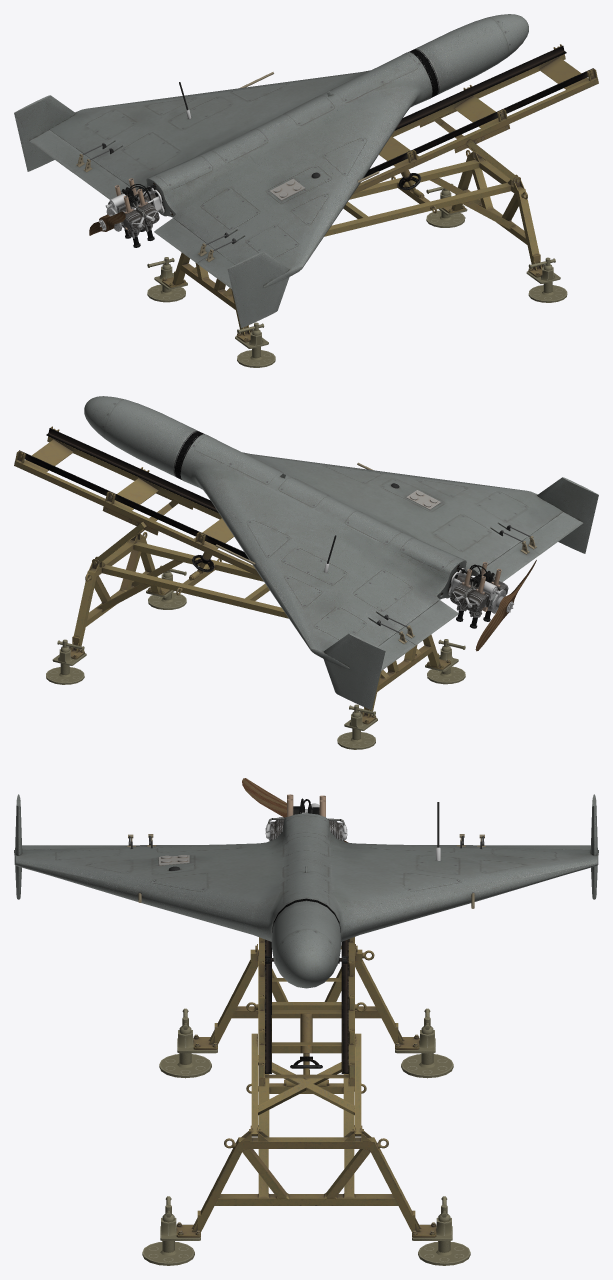
The model's file is shahed_13.glb.
The picture shows the model from 3 angles, top to bottom: view 1: azimuth 30°, elevation 25°; view 2: azimuth 150°, elevation 25°; view 3: azimuth 270°, elevation 25°; orthographic projection. The views are drawn at different scales.
Parts seen in each view (by area): view 1: aerofoil, launch rail, carriage.001, aileron top, carriage middle, carriage.004, carriage.008, launch rail rungs, motor symmetry.001, gnss, motor, control rod; view 2: aerofoil, launch rail, carriage.001, aileron top, carriage middle, carriage.004, carriage.008, launch rail rungs, motor symmetry, gnss, prop front, motor (+1 smaller); view 3: aerofoil, carriage middle, carriage.001, carriage.004, carriage.008, launch rail, x, launch rail rungs, aileron top, prop, gnss, worm drive.
Part boxes in pixels (x1=…): aerofoil: x1=14, y1=14, x2=528, y2=328; launch rail: x1=352, y1=44, x2=598, y2=194; carriage.001: x1=174, y1=118, x2=540, y2=334; aileron top: x1=29, y1=130, x2=234, y2=288; carriage middle: x1=180, y1=154, x2=527, y2=309; carriage.004: x1=147, y1=257, x2=275, y2=367; carriage.008: x1=426, y1=183, x2=567, y2=302; launch rail rungs: x1=379, y1=57, x2=588, y2=166; motor symmetry.001: x1=123, y1=189, x2=159, y2=247; gnss: x1=179, y1=72, x2=379, y2=200; motor: x1=105, y1=186, x2=164, y2=229; control rod: x1=76, y1=143, x2=236, y2=261; aerofoil: x1=84, y1=396, x2=598, y2=709; launch rail: x1=14, y1=426, x2=260, y2=577; carriage.001: x1=72, y1=501, x2=438, y2=716; aileron top: x1=378, y1=512, x2=583, y2=670; carriage middle: x1=86, y1=536, x2=432, y2=691; carriage.004: x1=337, y1=639, x2=465, y2=749; carriage.008: x1=46, y1=565, x2=186, y2=684; launch rail rungs: x1=24, y1=439, x2=233, y2=548; motor symmetry: x1=450, y1=569, x2=487, y2=628; gnss: x1=215, y1=462, x2=440, y2=572; prop front: x1=475, y1=561, x2=536, y2=651; motor: x1=448, y1=568, x2=501, y2=611; aerofoil: x1=14, y1=794, x2=598, y2=988; carriage middle: x1=215, y1=944, x2=397, y2=1205; carriage.001: x1=197, y1=949, x2=415, y2=1232; carriage.004: x1=159, y1=1008, x2=453, y2=1078; carriage.008: x1=142, y1=1196, x2=470, y2=1265; launch rail: x1=259, y1=937, x2=354, y2=1086; x: x1=258, y1=1055, x2=354, y2=1115; launch rail rungs: x1=265, y1=946, x2=348, y2=1078; aileron top: x1=22, y1=844, x2=590, y2=849; prop: x1=242, y1=778, x2=347, y2=842; gnss: x1=138, y1=802, x2=474, y2=908; worm drive: x1=284, y1=1013, x2=328, y2=1085.
Size of the model in its own units: 3.22 by 1.53 by 2.51.
2 materials, 2 textured.
